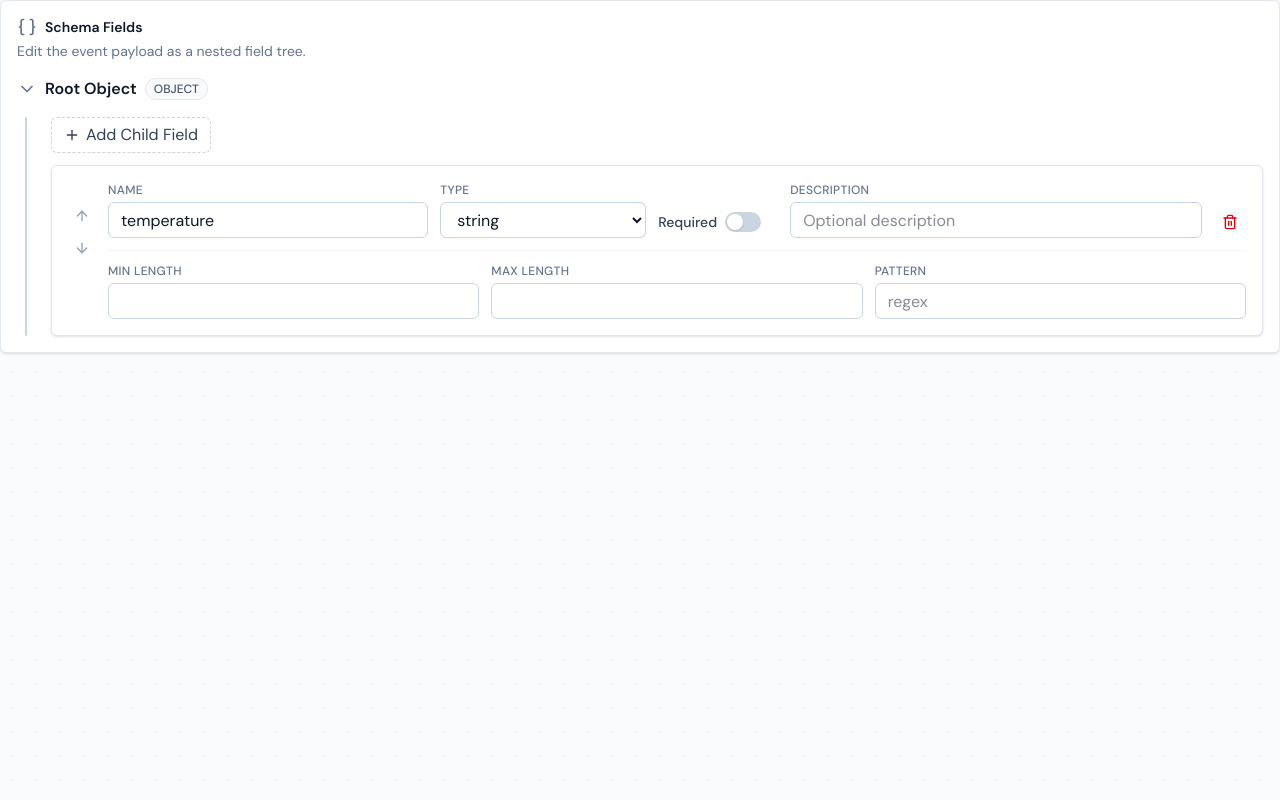
Test case: SchemaEditor › changing field type from string to number hides string validation, shows number validation
Expected: the number field with test id "schema-field-minlength-input" is shown, [108,283,479,319]
Expected: the number field with test id "schema-field-maxlength-input" is shown, [491,283,863,319]
Note: Change type to number
Select "number" in the dropdown with test id "schema-field-type-select" at (543, 220), box [440,202,646,238]
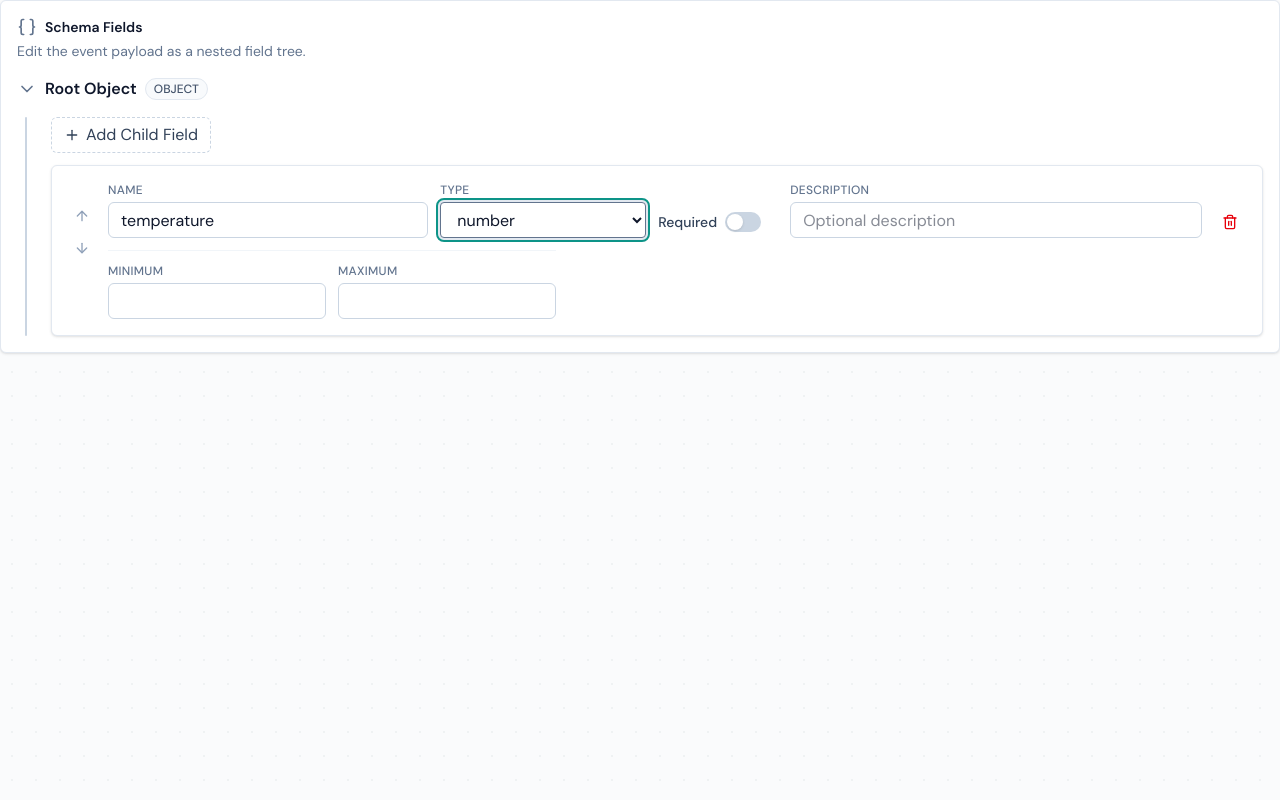
Expected: the number field with test id "schema-field-minimum-input" is shown, [108,283,326,319]
Expected: the number field with test id "schema-field-maximum-input" is shown, [338,283,556,319]
Expected: the number field with test id "schema-field-minlength-input" is gone
